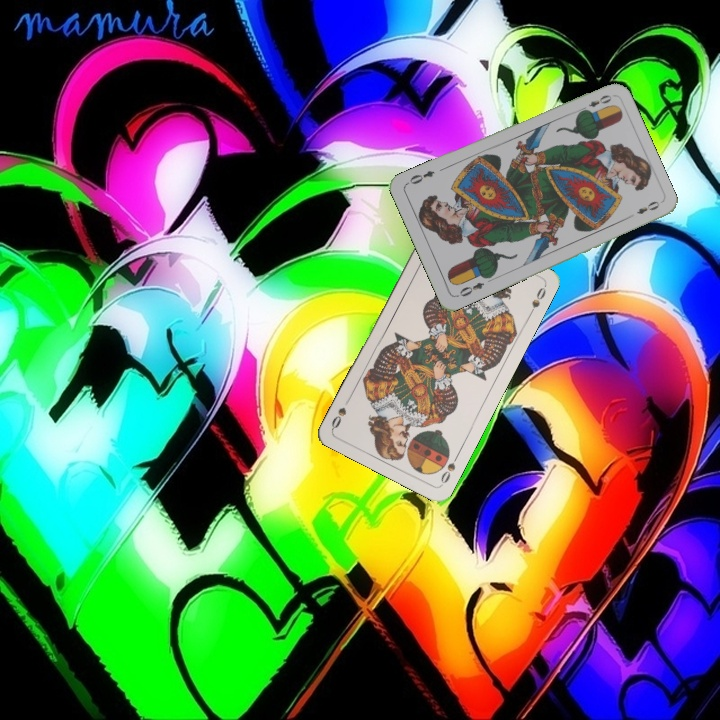EO: (576, 91, 614, 114), (453, 278, 487, 300)
SO: (437, 450, 461, 488)
